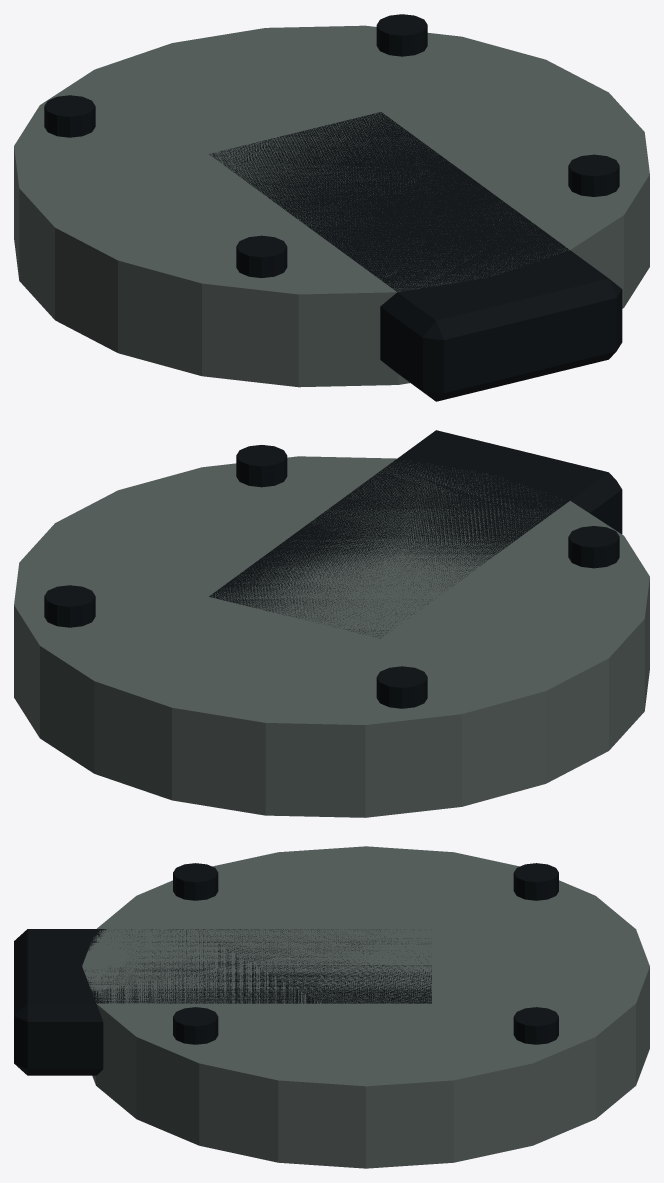
The model's file is ChinMount__Mount.obj.
3 views of the same model, one above another, from view 1: azimuth 30°, elevation 25°; view 2: azimuth 150°, elevation 25°; view 3: azimuth 270°, elevation 25° (orthographic). The views are drawn at different scales.
Parts seen in each view (by area): view 1: Fixed_fuselage_ring, Mount_lug, Fixed_ring_fastener.003, Fixed_ring_fastener.001, Fixed_ring_fastener.002, Fixed_ring_fastener; view 2: Fixed_fuselage_ring, Mount_lug, Fixed_ring_fastener.001, Fixed_ring_fastener.003, Fixed_ring_fastener, Fixed_ring_fastener.002; view 3: Fixed_fuselage_ring, Mount_lug, Fixed_ring_fastener, Fixed_ring_fastener.002, Fixed_ring_fastener.001, Fixed_ring_fastener.003.
Part boxes in pixels (x1,y1,x2,y2): Fixed_fuselage_ring: (14, 25, 649, 387); Mount_lug: (209, 112, 622, 401); Fixed_ring_fastener.003: (376, 14, 427, 56); Fixed_ring_fastener.001: (44, 95, 95, 137); Fixed_ring_fastener.002: (568, 154, 619, 196); Fixed_ring_fastener: (236, 235, 287, 277); Fixed_fuselage_ring: (14, 456, 649, 817); Mount_lug: (209, 430, 622, 638); Fixed_ring_fastener.001: (376, 666, 427, 708); Fixed_ring_fastener.003: (44, 585, 95, 627); Fixed_ring_fastener: (568, 526, 619, 568); Fixed_ring_fastener.002: (236, 445, 287, 487); Fixed_fuselage_ring: (82, 846, 649, 1168); Mount_lug: (14, 929, 431, 1075); Fixed_ring_fastener: (173, 863, 218, 900); Fixed_ring_fastener.002: (173, 1007, 218, 1044); Fixed_ring_fastener.001: (513, 863, 558, 900); Fixed_ring_fastener.003: (513, 1007, 558, 1044).
Size of the model in its own units: 0.5 by 0.101 by 0.56.
